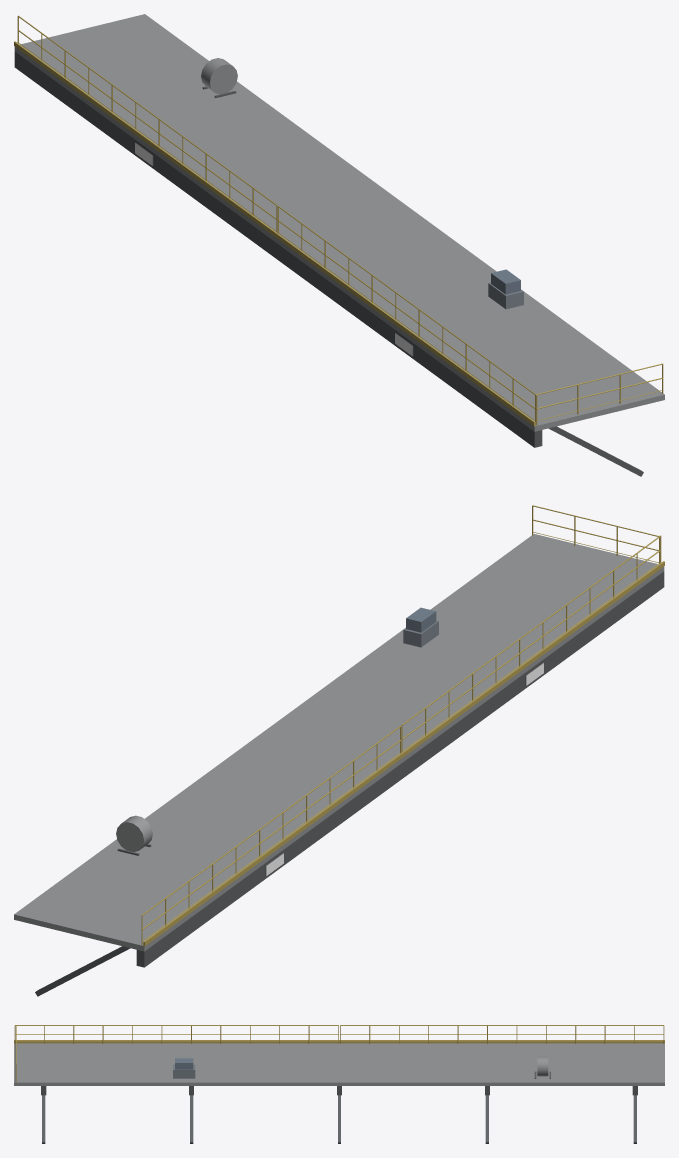
File: plat_e5.glb
3 renders of one model, top to bottom at view 1: azimuth 30°, elevation 25°; view 2: azimuth 150°, elevation 25°; view 3: azimuth 270°, elevation 25°, orthographic. The views are drawn at different scales.
Parts seen in each view (by area): view 1: plat_e5; view 2: plat_e5; view 3: plat_e5.
Part boxes in pixels (bbox=[...]): plat_e5: bbox=[14, 14, 664, 476]; plat_e5: bbox=[14, 505, 664, 996]; plat_e5: bbox=[14, 1025, 664, 1143].
Size of the model in its own units: 5.18 by 4.79 by 35.2.
